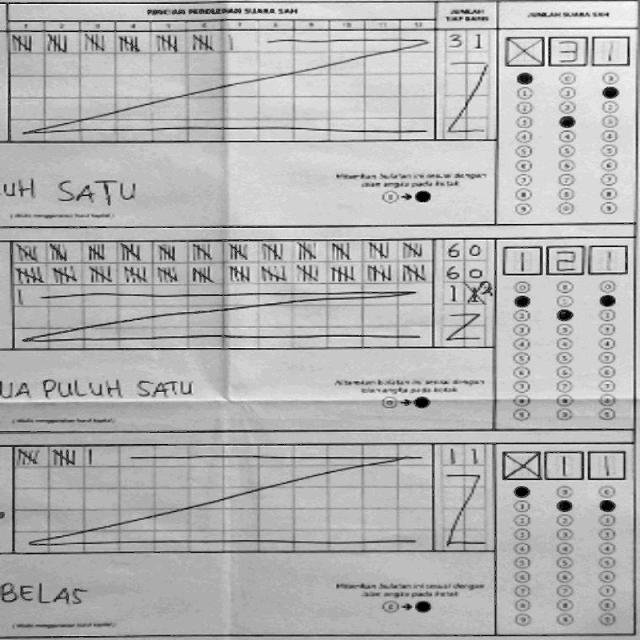Suara: (502, 31, 632, 68), (497, 444, 628, 478), (499, 242, 629, 276)
